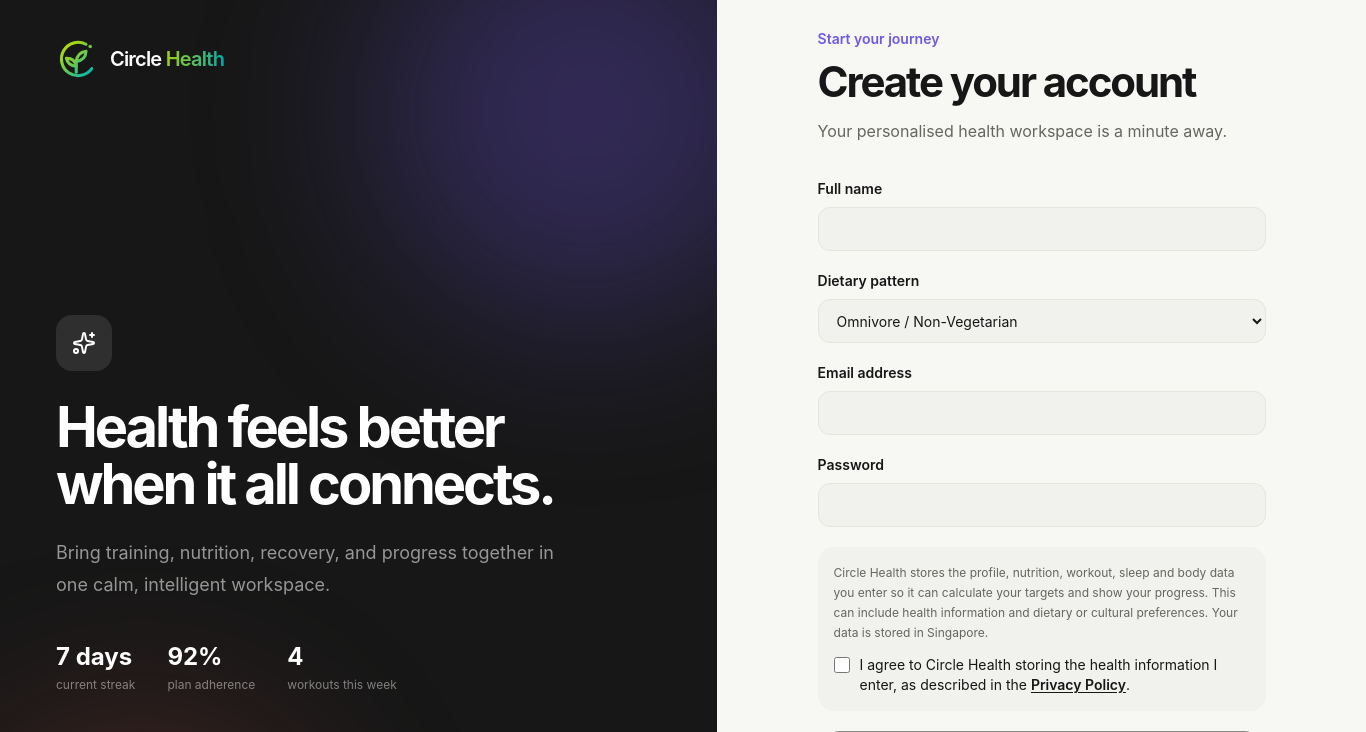
registration consent › keeps Create account disabled until the privacy checkbox is ticked
What coordinates should you click on to do the following:
click the checkbox labelled "I agree to Circle Health storing the health information I enter"
I would click on:
 (842, 665)
Its box is [834,657,850,673].
(page scrolled)
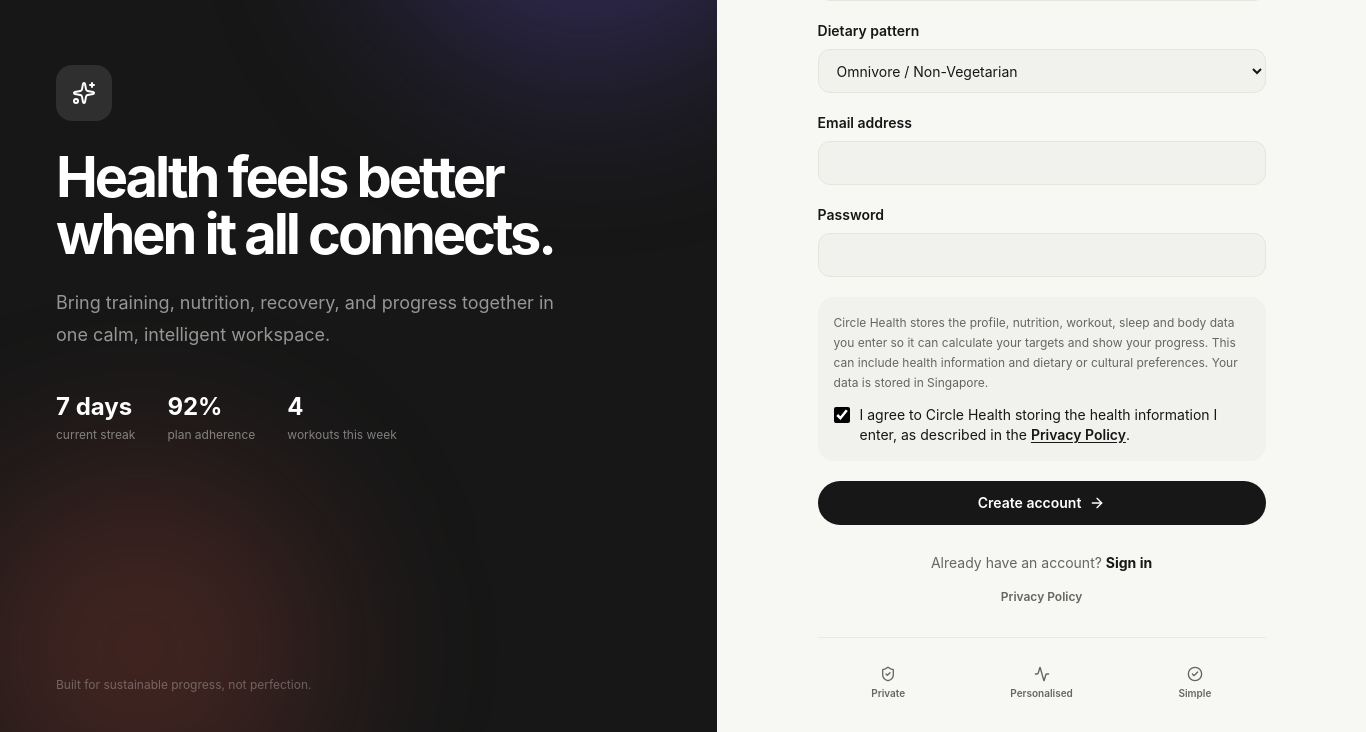
Result: the button "Create account" is enabled at [818,481,1266,525]
